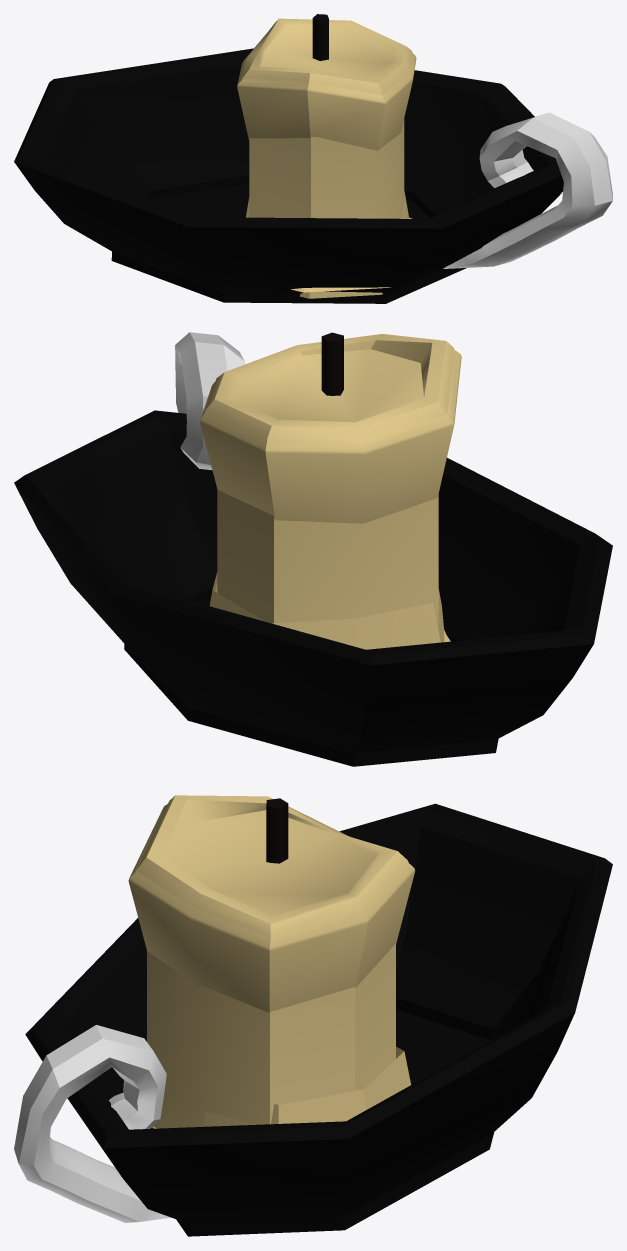
File: SINGLE HOLDING CANDLE.FBX
3 views of the same model, one above another, from view 1: azimuth 30°, elevation 25°; view 2: azimuth 150°, elevation 25°; view 3: azimuth 270°, elevation 25° (orthographic). The views are drawn at different scales.
Parts seen in each view (by area): view 1: Cylinder015, Line010, Cylinder012; view 2: Cylinder015, Line010, Cylinder012; view 3: Cylinder015, Line010, Cylinder012.
Boxes of the visible parts, x1,y1,x2,y2 form: Cylinder015: [14, 48, 612, 303]; Line010: [237, 18, 416, 298]; Cylinder012: [312, 14, 328, 60]; Cylinder015: [14, 332, 612, 766]; Line010: [200, 334, 461, 649]; Cylinder012: [321, 332, 343, 395]; Cylinder015: [14, 803, 612, 1236]; Line010: [128, 795, 415, 1128]; Cylinder012: [266, 798, 288, 863].
Bounding box in the file's own units: 79.47 × 41.73 × 64.62.
